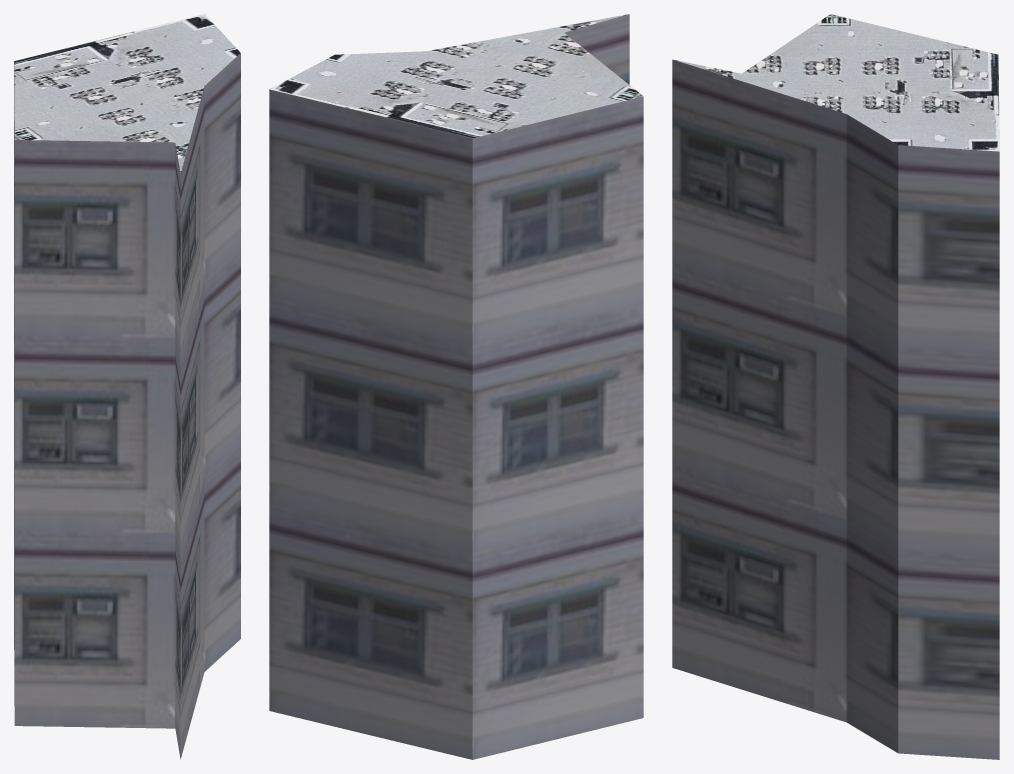
File: ResTex__2614.fbx
3 views of the same model, side by side, from view 1: azimuth 30°, elevation 25°; view 2: azimuth 150°, elevation 25°; view 3: azimuth 270°, elevation 25° (orthographic). The views are drawn at different scales.
Visible parts, largest first — view 1: CityEngineMaterial_1_m, CityEngineMaterial_m; view 2: CityEngineMaterial_1_m, CityEngineMaterial_m; view 3: CityEngineMaterial_1_m, CityEngineMaterial_m.
Part boxes in pixels (left/top/right/bottom): CityEngineMaterial_1_m: left=14, top=53, right=240, bottom=759; CityEngineMaterial_m: left=14, top=14, right=240, bottom=172; CityEngineMaterial_1_m: left=269, top=14, right=643, bottom=759; CityEngineMaterial_m: left=269, top=14, right=643, bottom=138; CityEngineMaterial_1_m: left=672, top=59, right=999, bottom=759; CityEngineMaterial_m: left=673, top=14, right=999, bottom=151.
Bounding box in the file's own units: 4.37 × 9 × 4.39.
Materials: 2 (2 with a texture image).
